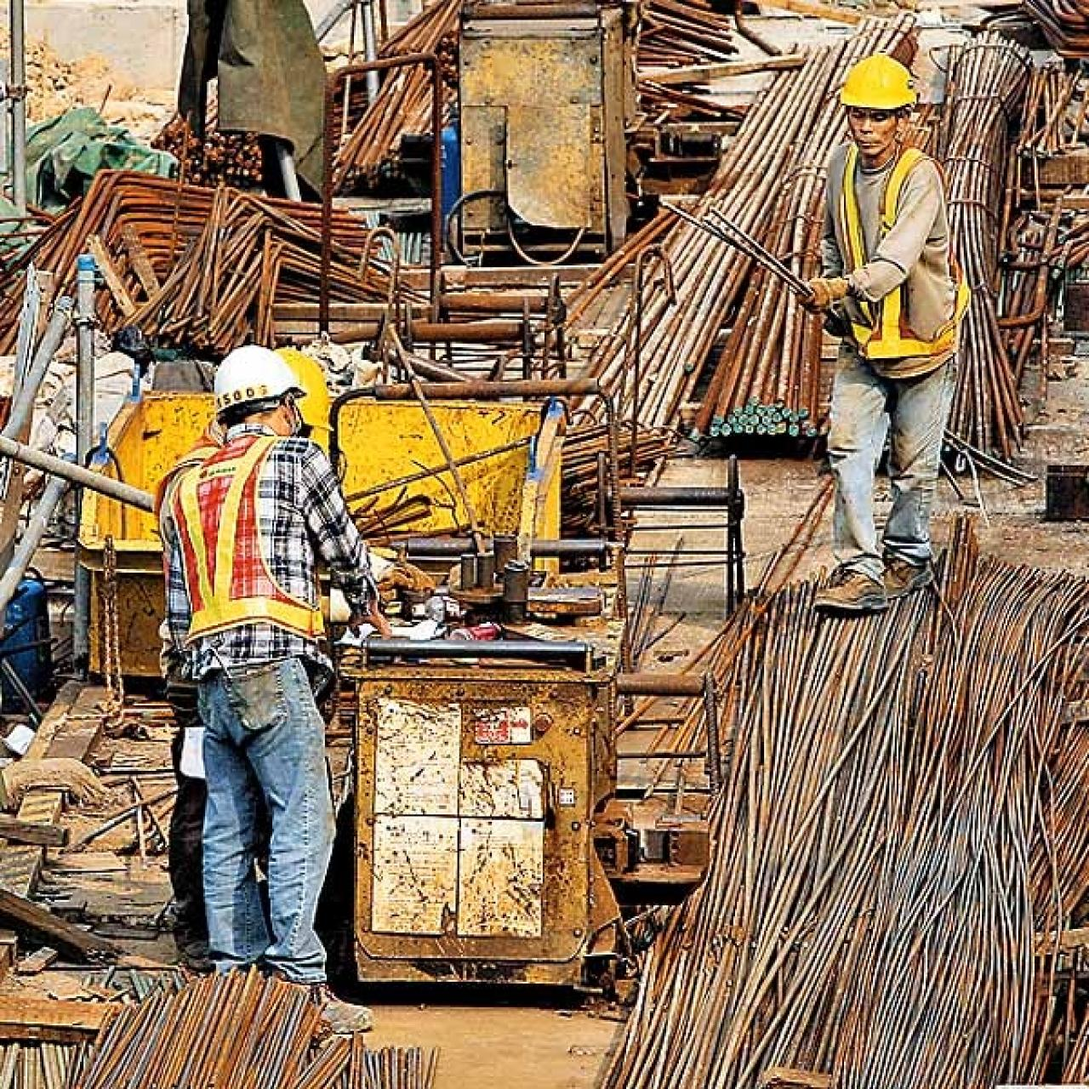Person: (138, 327, 433, 1055), (739, 41, 984, 639)
Safety_Vest: (163, 435, 337, 668), (800, 140, 978, 364)
